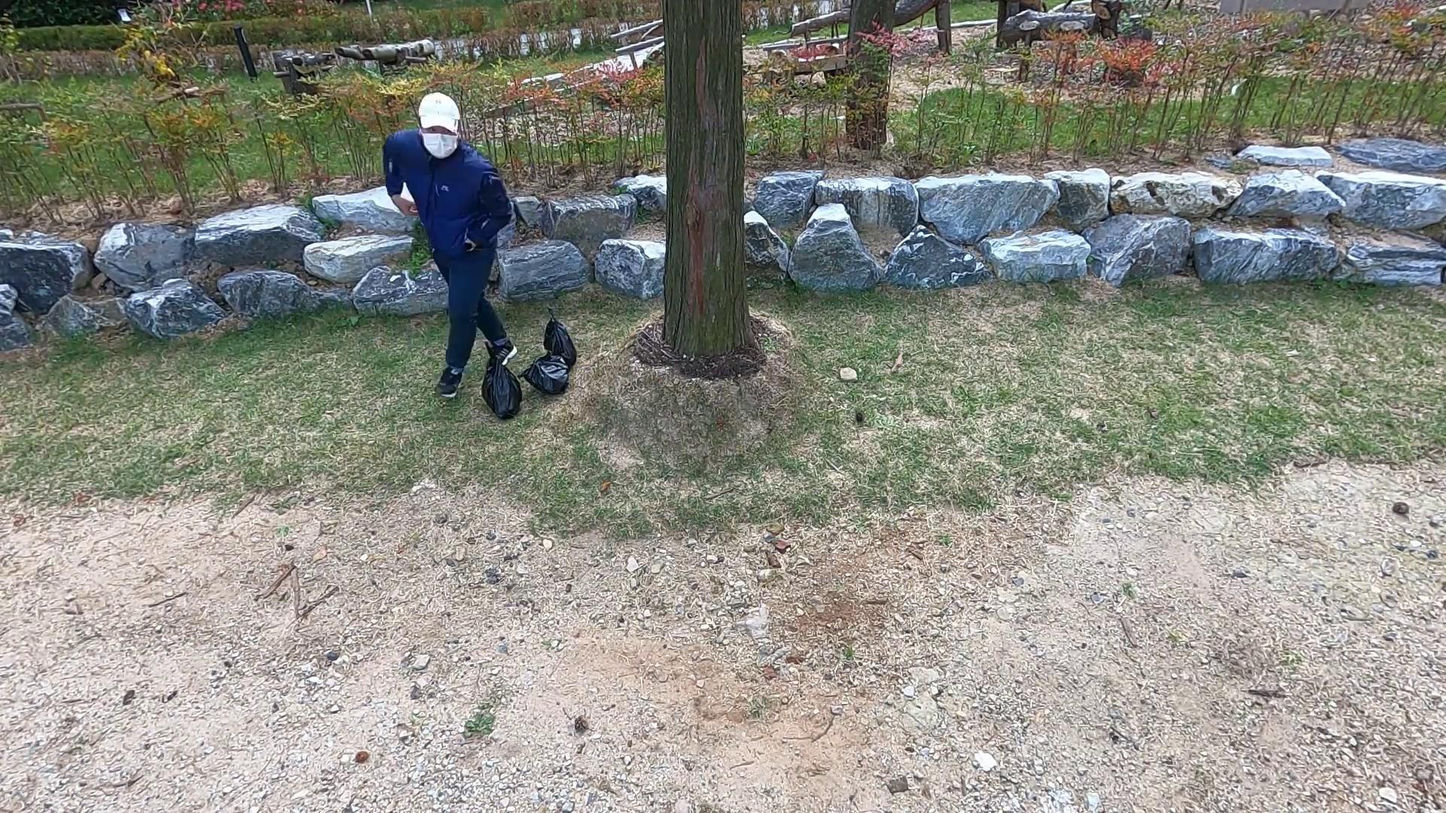person: (380, 90, 517, 399)
trash: (479, 342, 524, 419), (519, 347, 569, 395), (546, 307, 576, 368)
